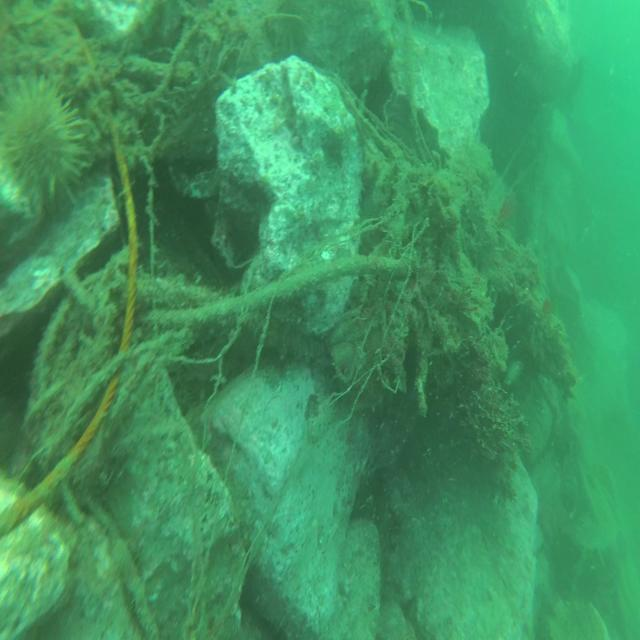echinus: (5, 75, 93, 209)
